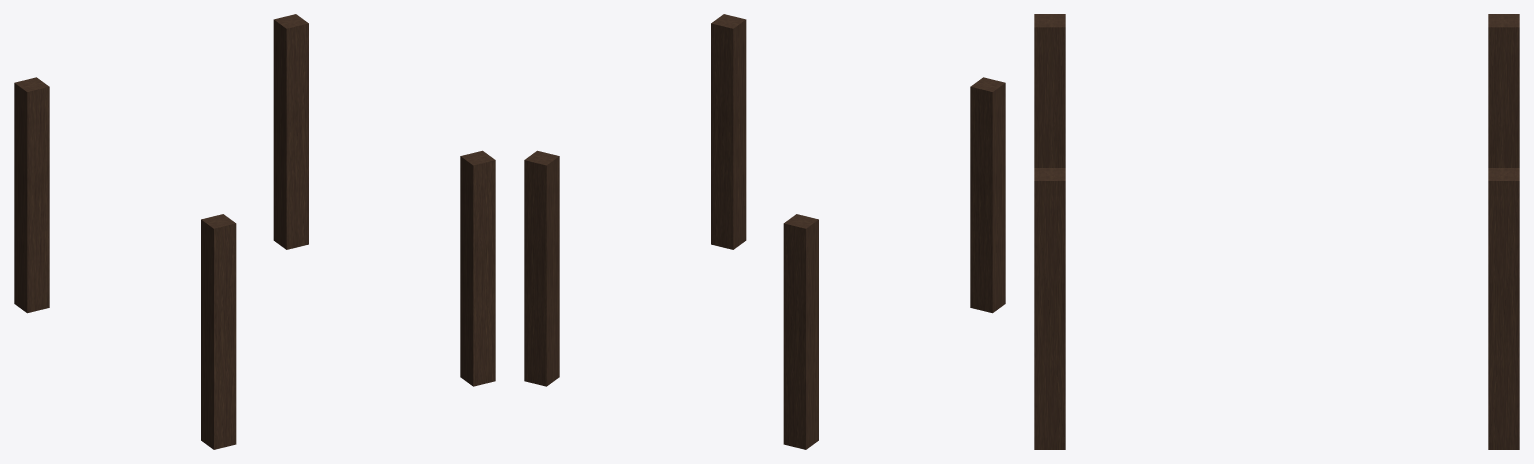
The model's file is cornerBeams.glb.
The picture shows the model from 3 angles, left to right: view 1: azimuth 30°, elevation 25°; view 2: azimuth 150°, elevation 25°; view 3: azimuth 270°, elevation 25°; orthographic projection. The views are drawn at different scales.
Visible parts, largest first — view 1: cornerBeams; view 2: cornerBeams; view 3: cornerBeams.
Boxes of the visible parts, x1,y1,x2,y2 form: cornerBeams: (14, 14, 495, 449); cornerBeams: (524, 14, 1005, 449); cornerBeams: (1034, 14, 1519, 449).
Size of the model in its own units: 2.93 by 2.2 by 3.59.
1 material, 1 textured.
